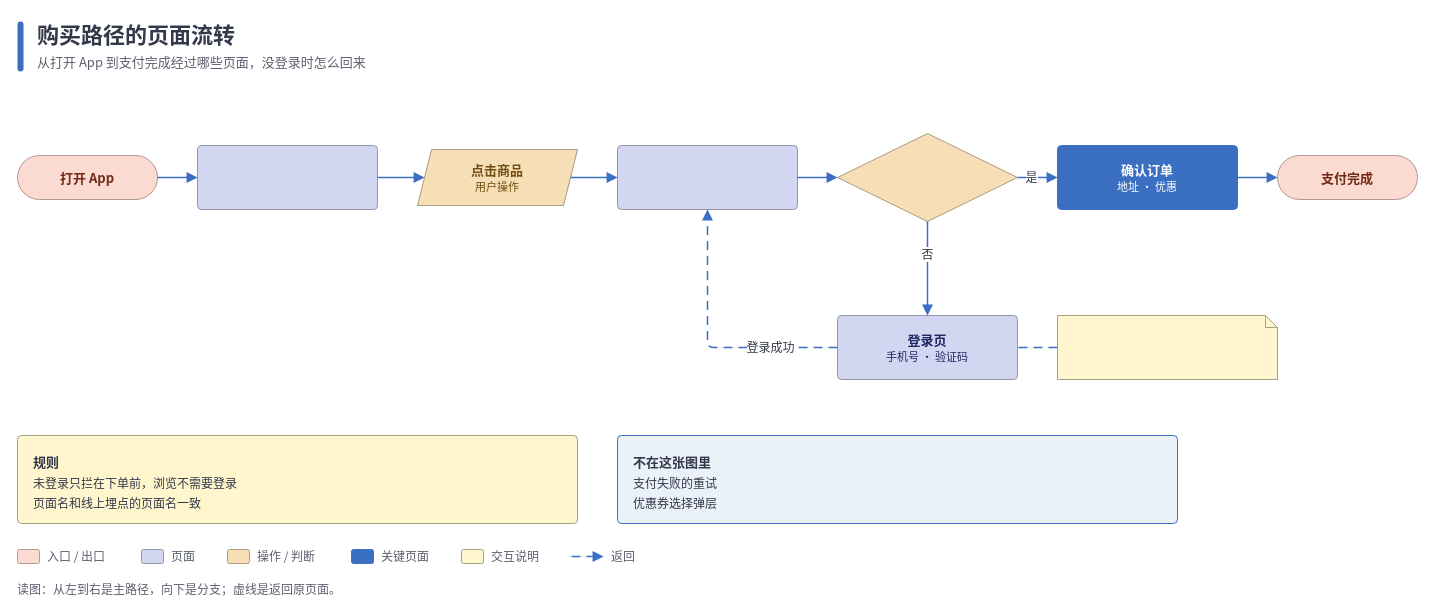
The diagram is 1435 pixels wide and 616 high, and some of its shapes have lost their labels. Each missing label, with the box of its shape:
商品详情 SKU · 价格: (616, 144, 798, 210)
已登录?: (836, 132, 1018, 222)
登录后回到原商品，不回首页: (1056, 314, 1278, 380)
首页 推荐位: (196, 144, 378, 210)
